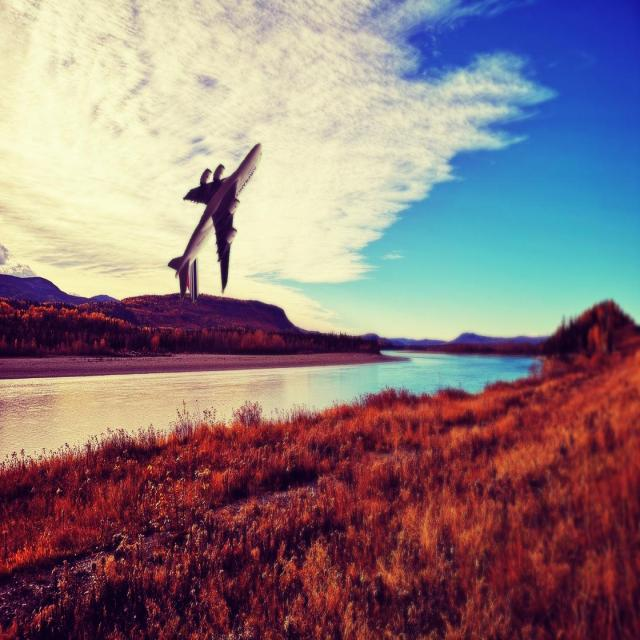airplane: (167, 142, 262, 302)
